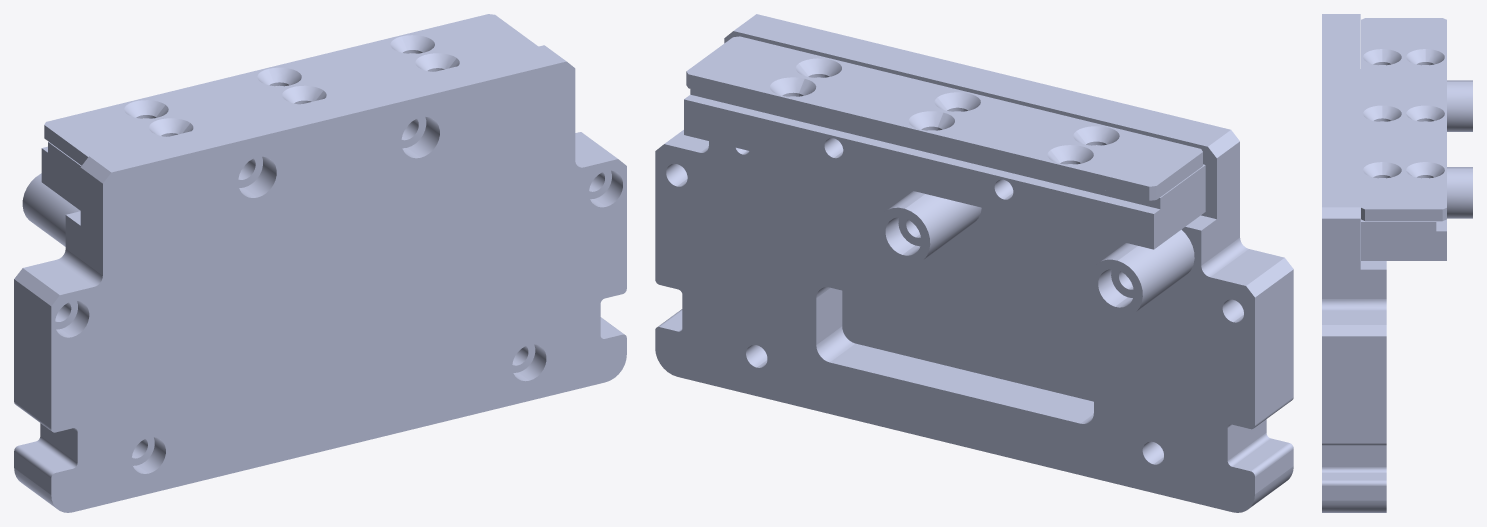
Rendered from 134-duangaiban.glb.
The picture shows the model from 3 angles, left to right: view 1: azimuth 30°, elevation 25°; view 2: azimuth 150°, elevation 25°; view 3: azimuth 270°, elevation 25°; orthographic projection. The views are drawn at different scales.
Visible parts, largest first — view 1: 134X-17-2 后盖V3.0-23091301, 134X-37钢片压板V1.0, 80B-65-20缓冲胶(10×2), 134X-25钢带铝块V1.0; view 2: 134X-17-2 后盖V3.0-23091301, 134X-37钢片压板V1.0, 134X-25钢带铝块V1.0, 80B-65-20缓冲胶(10×2), 80B-65-20缓冲胶(10×2)_node; view 3: 134X-17-2 后盖V3.0-23091301, 134X-37钢片压板V1.0, 134X-25钢带铝块V1.0, 80B-65-20缓冲胶(10×2), 80B-65-20缓冲胶(10×2)_node.
Part boxes in pixels (x1,y1,x2,y2): 134X-17-2 后盖V3.0-23091301: [14, 45, 626, 512]; 134X-37钢片压板V1.0: [44, 14, 538, 165]; 80B-65-20缓冲胶(10×2): [22, 173, 80, 246]; 134X-25钢带铝块V1.0: [41, 53, 434, 210]; 134X-17-2 后盖V3.0-23091301: [655, 14, 1293, 512]; 134X-37钢片压板V1.0: [686, 36, 1202, 200]; 134X-25钢带铝块V1.0: [684, 77, 1205, 249]; 80B-65-20缓冲胶(10×2): [1089, 229, 1194, 316]; 80B-65-20缓冲胶(10×2)_node: [876, 191, 981, 265]; 134X-17-2 后盖V3.0-23091301: [1322, 14, 1386, 512]; 134X-37钢片压板V1.0: [1361, 18, 1446, 221]; 134X-25钢带铝块V1.0: [1361, 65, 1446, 260]; 80B-65-20缓冲胶(10×2): [1447, 80, 1472, 131]; 80B-65-20缓冲胶(10×2)_node: [1447, 167, 1472, 218].
Bounding box in the file's own units: 134 × 73.5 × 35.
